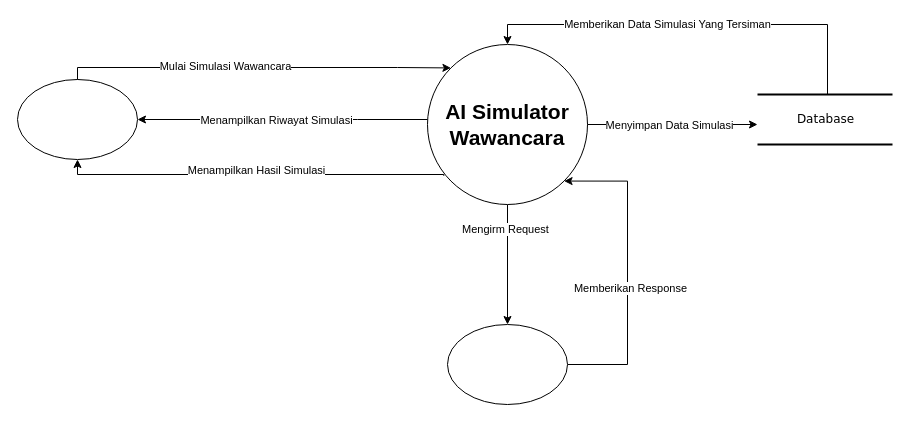
Some shapes in this 911 by 422 pixel diagram are drawn without their labels. The centre of each missing label's shape, as x and y in pixels:
Open AI API: (507,364)
User: (77,119)
